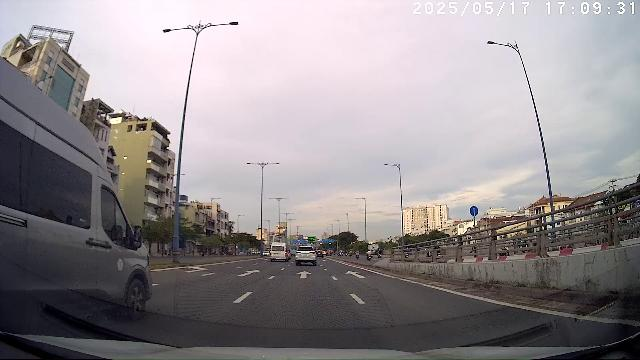301a-cac-xe-chi-duoc-di-thang: (469, 206, 479, 216)
